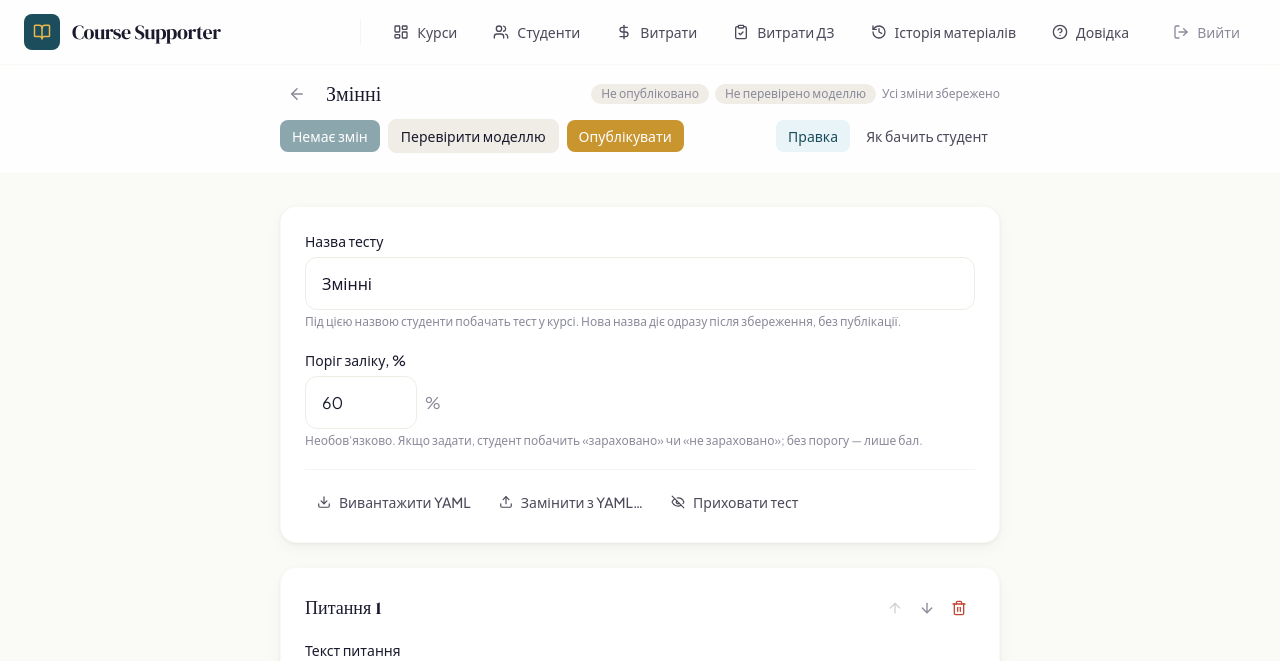
it: TestEditorPage › explains a collision with a running check instead of failing silently
The width and height of the screenshot is (1280, 661).
Click the button "Перевірити моделлю".
click(473, 136)  # box [388,119,559,153]
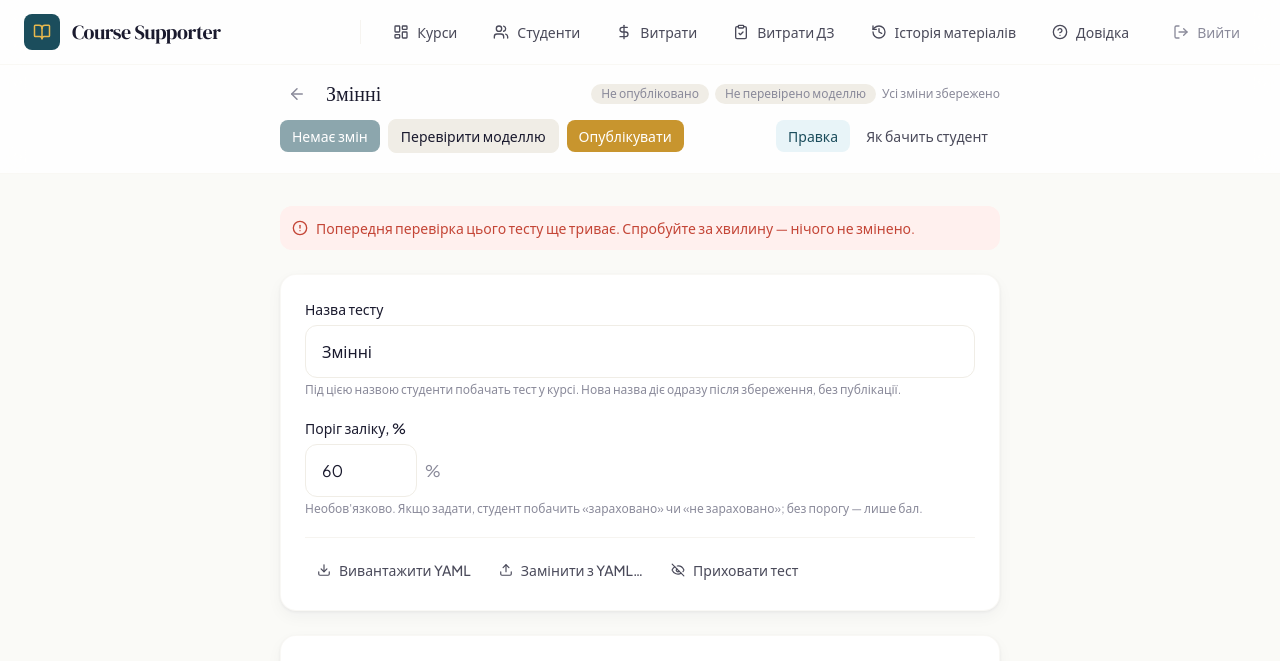
Expected: the text "Не перевірено моделлю" is shown, [715,84,876,104]
Now the message shows "Попередня перевірка цього тесту ще триває. Спробуйте за хвилину — нічого не змінено.", box [316,219,915,237]
